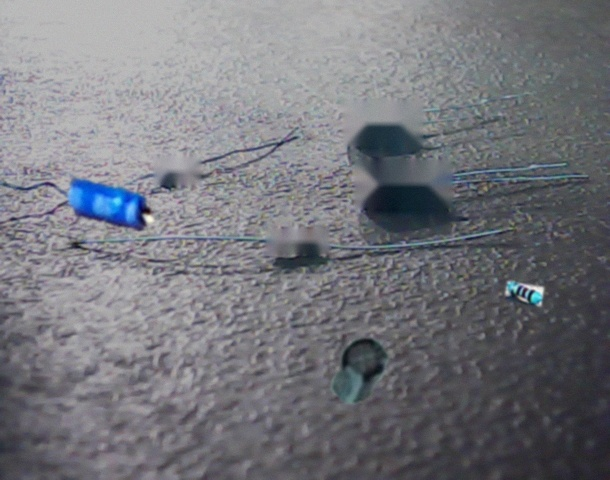capacitor: (67, 177, 155, 231), (331, 338, 389, 404)
resistor: (505, 281, 544, 306)
